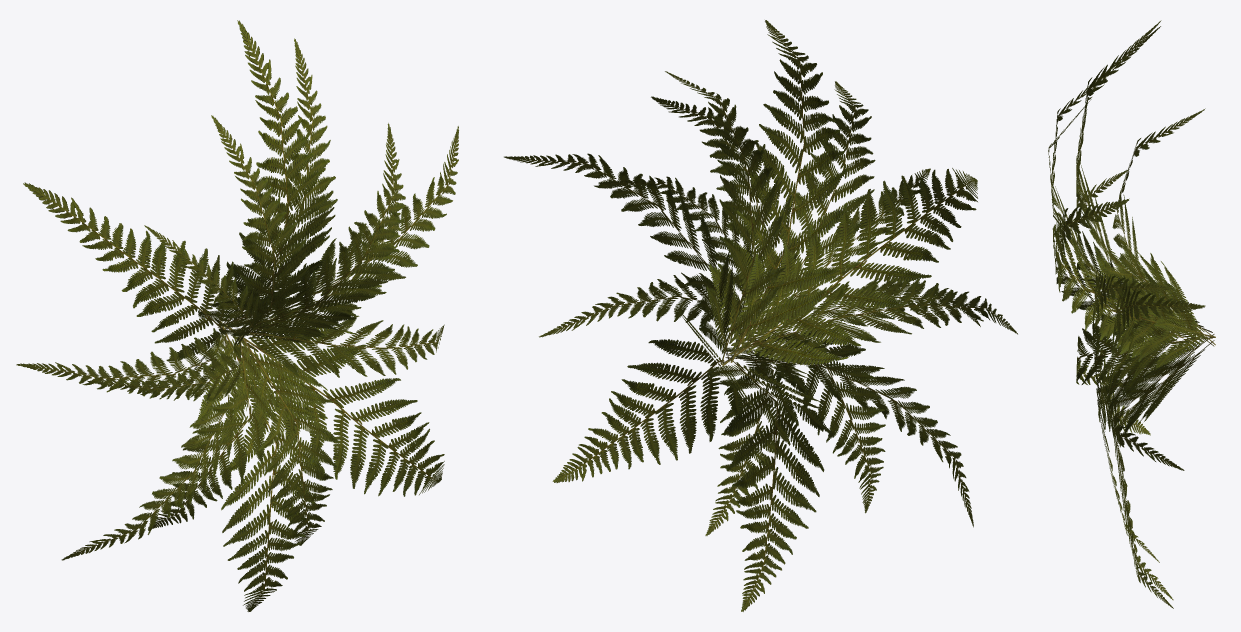
File: FernPlant.fbx
The picture shows the model from 3 angles, left to right: view 1: azimuth 30°, elevation 25°; view 2: azimuth 150°, elevation 25°; view 3: azimuth 270°, elevation 25°; orthographic projection. The views are drawn at different scales.
Parts seen in each view (by area): view 1: Fern; view 2: Fern; view 3: Fern.
Boxes of the visible parts, x1,y1,x2,y2 form: Fern: (16,20,458,611); Fern: (504,20,1017,611); Fern: (1048,20,1215,608).
Size of the model in its own units: 4.16 by 4.86 by 1.37.
